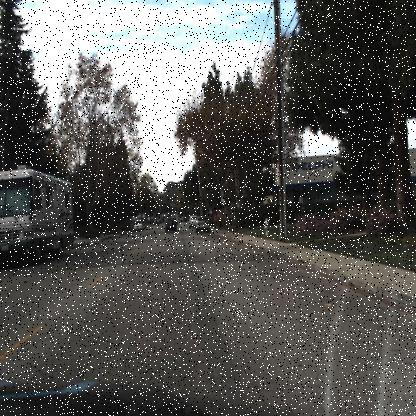car: (161, 211, 180, 237), (194, 213, 210, 235), (186, 212, 199, 229), (131, 217, 144, 232)
truck: (0, 158, 74, 273)
